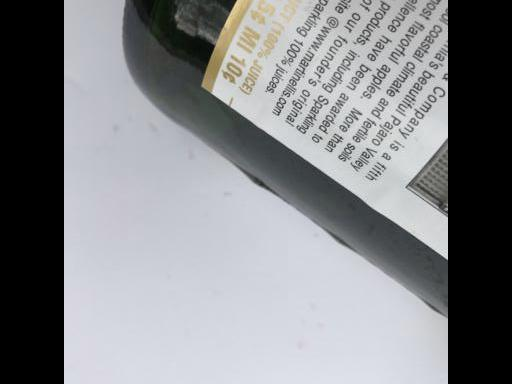alcohol: (120, 0, 447, 328)
glass: (120, 0, 447, 328)
sodocalcique: (120, 0, 447, 328)
